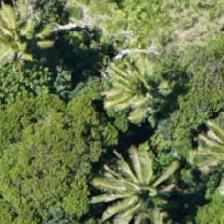coconut_tree: (96, 46, 186, 136), (96, 143, 186, 223), (0, 0, 54, 72)
